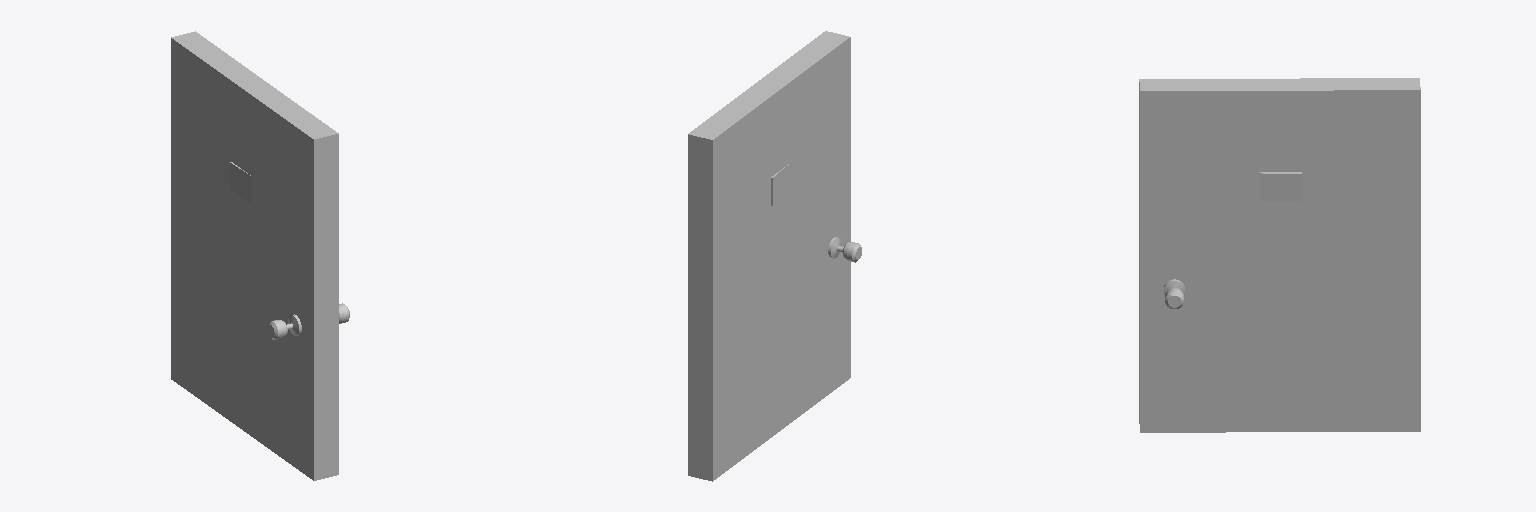
Rendered from Door_2_Open3.obj.
The picture shows the model from 3 angles: view 1: azimuth 30°, elevation 25°; view 2: azimuth 150°, elevation 25°; view 3: azimuth 270°, elevation 25°; orthographic projection.
Parts seen in each view (by area): view 1: Longer_Door; view 2: Longer_Door; view 3: Longer_Door.
Boxes of the visible parts, x1,y1,x2,y2 form: Longer_Door: [171, 31, 349, 480]; Longer_Door: [688, 31, 861, 481]; Longer_Door: [1139, 78, 1420, 432].
Size of the model in its own units: 0.2869 by 1.23 by 0.9191.